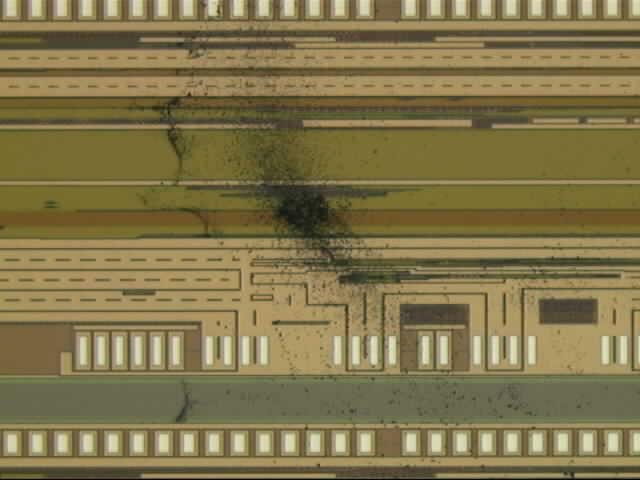PO CONTAMINATION: (131, 1, 605, 433)
